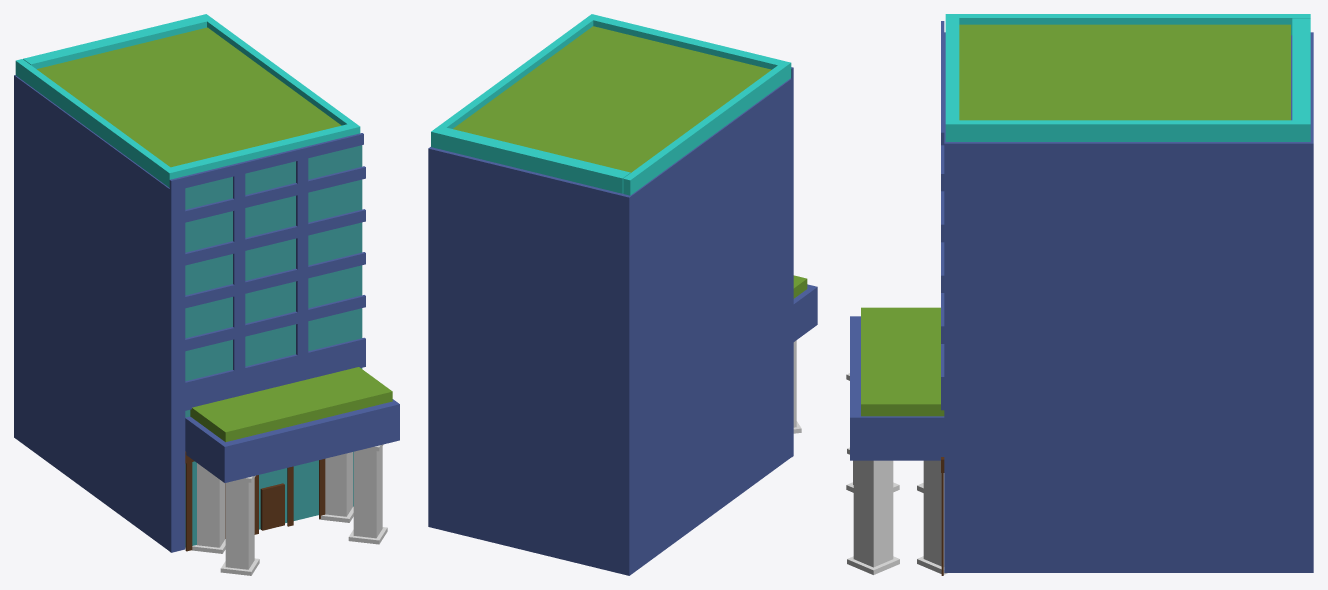
Rendered from BuildingBlock1.fbx.
3 views of the same model, side by side, from view 1: azimuth 30°, elevation 25°; view 2: azimuth 150°, elevation 25°; view 3: azimuth 270°, elevation 25° (orthographic). The views are drawn at different scales.
Parts seen in each view (by area): view 1: group1; view 2: group1; view 3: group1.
Boxes of the visible parts, x1,y1,x2,y2 form: group1: (14,14,399,575); group1: (428,14,817,575); group1: (846,14,1313,575).
Bounding box in the file's own units: 5.06 × 9.47 × 8.86.
